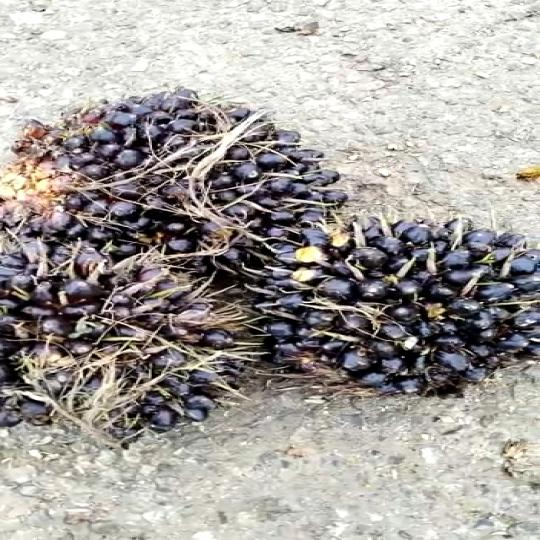mentah: (28, 87, 391, 288), (0, 229, 258, 467), (239, 227, 540, 407)
